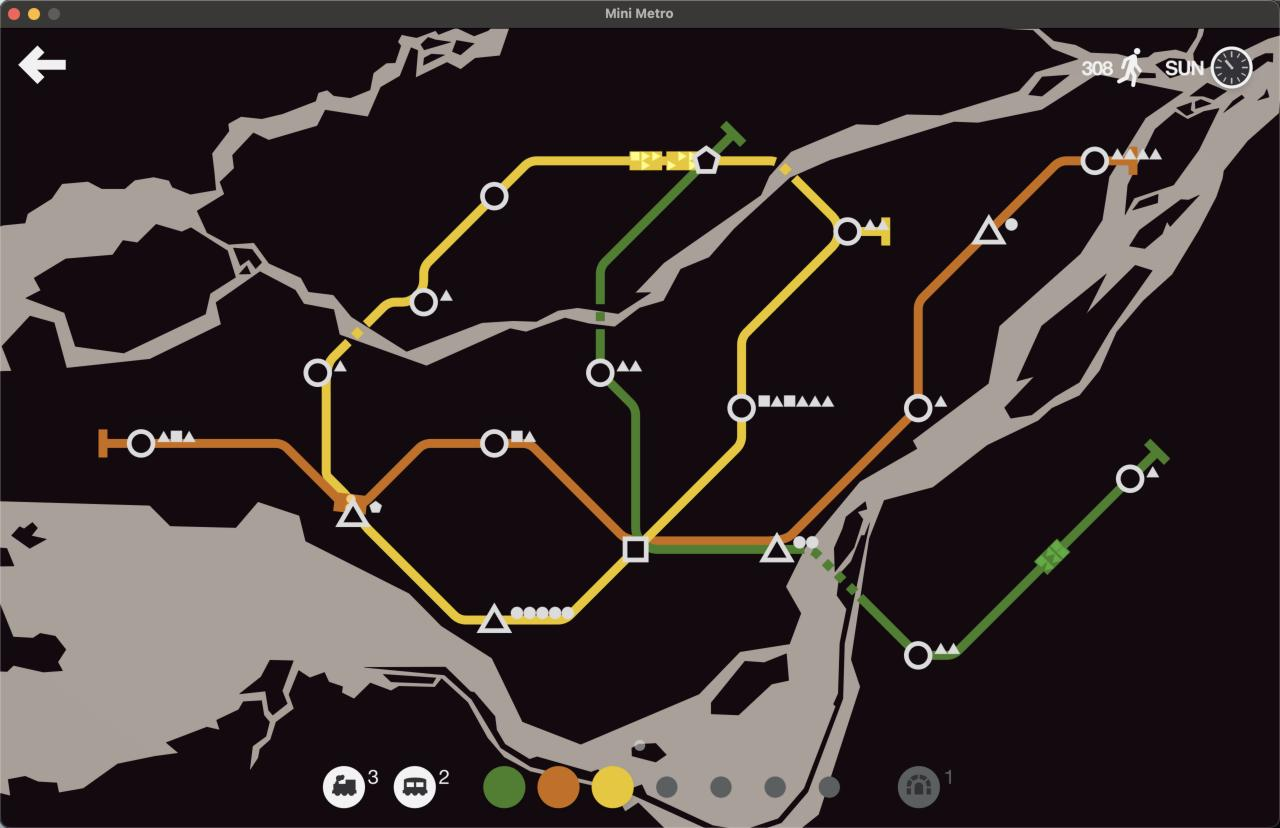CIRCLE: (1079, 145, 1110, 176), (902, 393, 934, 423), (726, 393, 757, 423), (303, 358, 333, 388), (480, 428, 510, 458), (904, 640, 934, 670), (585, 358, 616, 387), (833, 216, 862, 246), (410, 287, 439, 317), (480, 181, 509, 211), (127, 428, 156, 458), (1116, 464, 1146, 493)
PENTAGON: (693, 145, 722, 176)
SQUARE: (622, 536, 650, 563)
TRIANGLE: (972, 213, 1008, 247), (760, 531, 794, 564), (335, 496, 370, 528), (477, 602, 511, 634)
